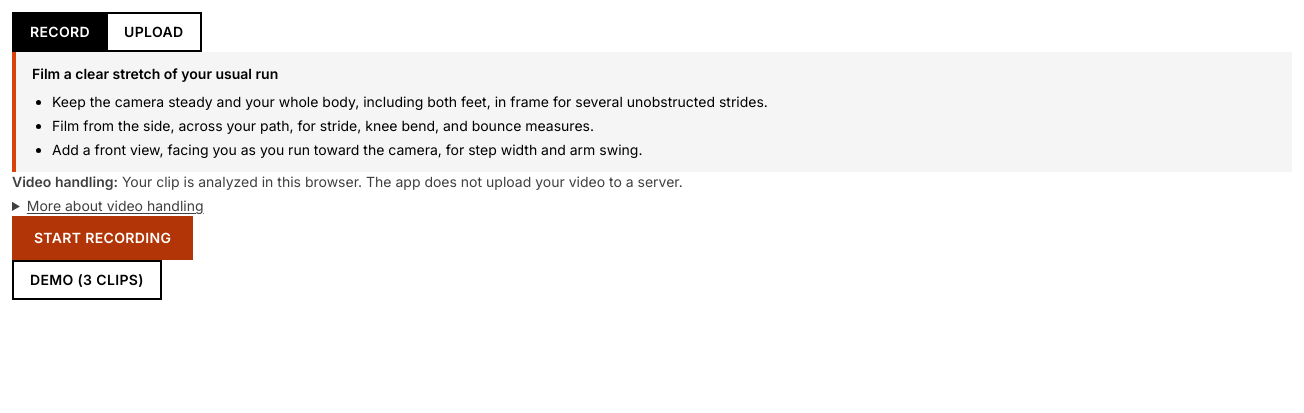
Scenario: ClipPicker › explains local video handling before recording or file selection
Expected: the text "does not upload your video to a server" is shown, [118,173,683,190]
Click the heading "More about video handling" at (108, 206), box [12,196,204,216]
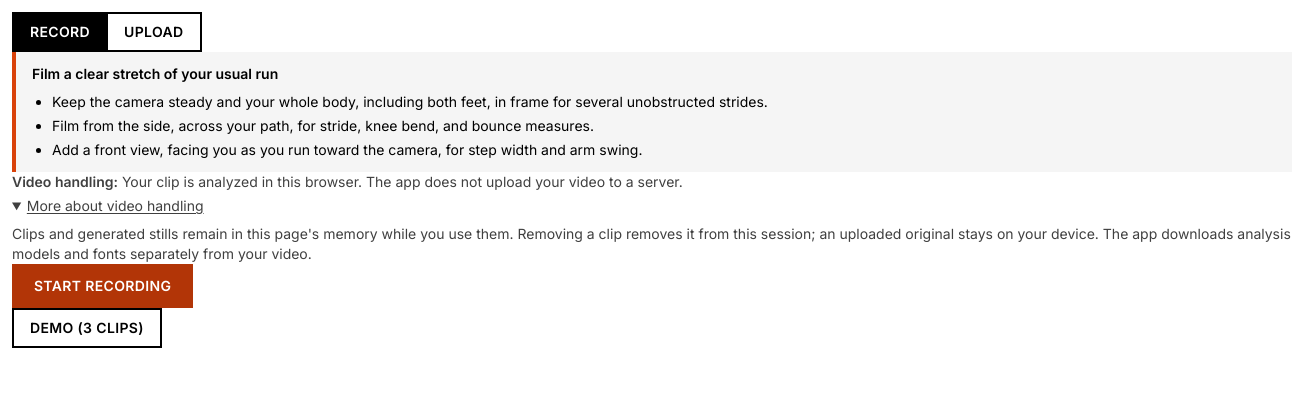
Result: the text "downloads analysis models and fonts separately" is shown at [12,225,1291,262]
Click the button "Upload" at (154, 32), box [108,14,200,50]
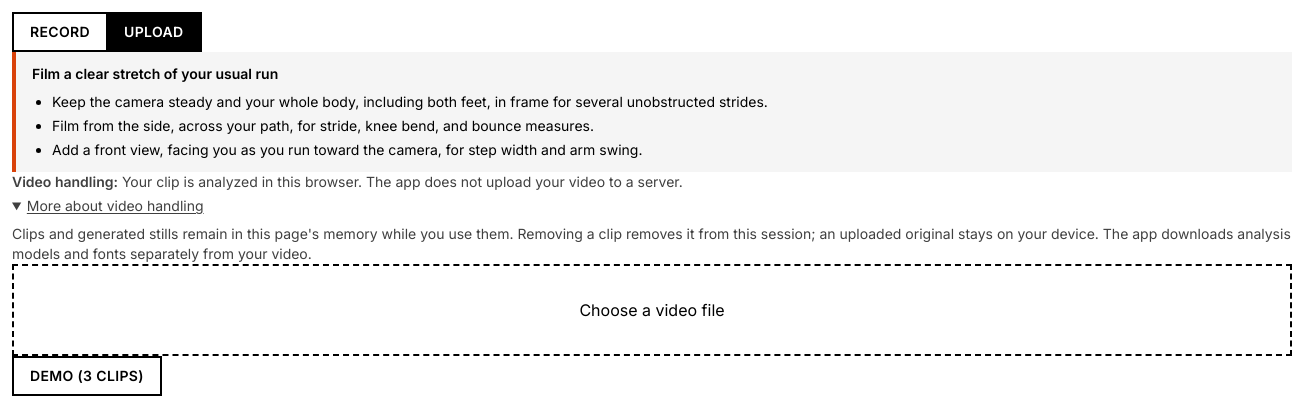
Expected: the text "does not upload your video to a server" is shown, [118,173,683,190]
Result: the file field labelled "Choose a video file" is shown at [12,264,1292,356]
